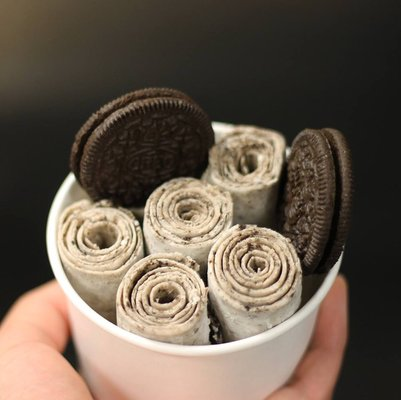sushi: (23, 123, 355, 393)
